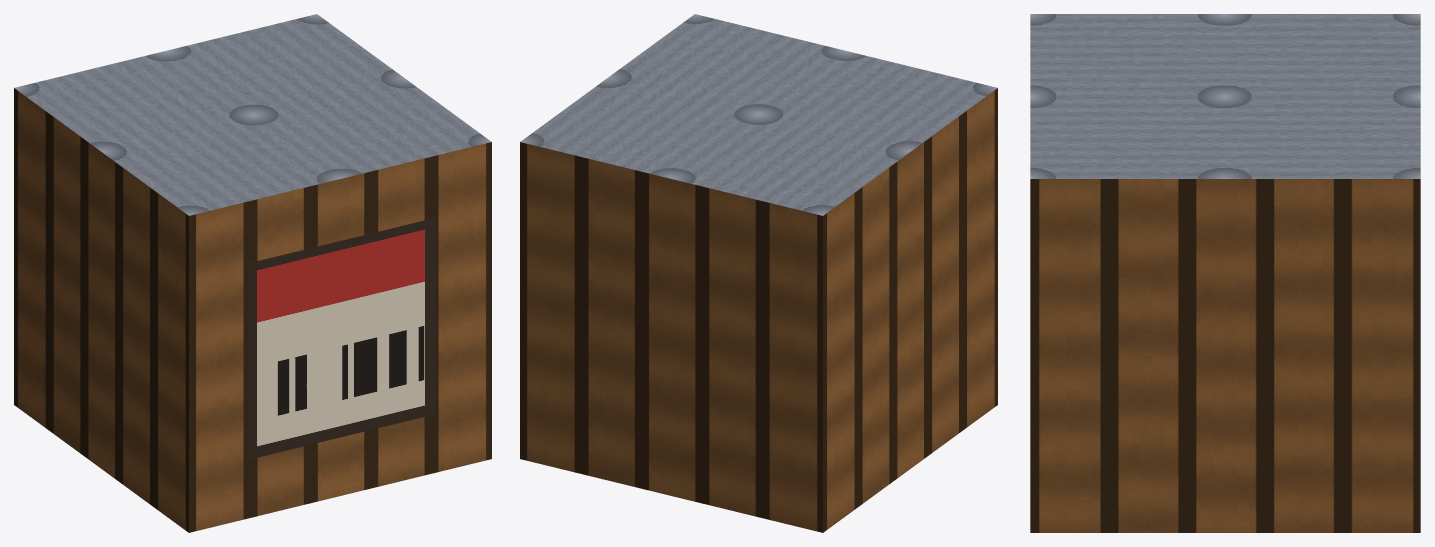
The model's file is crate.obj.
3 views of the same model, side by side, from view 1: azimuth 30°, elevation 25°; view 2: azimuth 150°, elevation 25°; view 3: azimuth 270°, elevation 25° (orthographic). The views are drawn at different scales.
Size of the model in its own units: 2 by 2 by 2.02.
3 materials, 3 textured.
